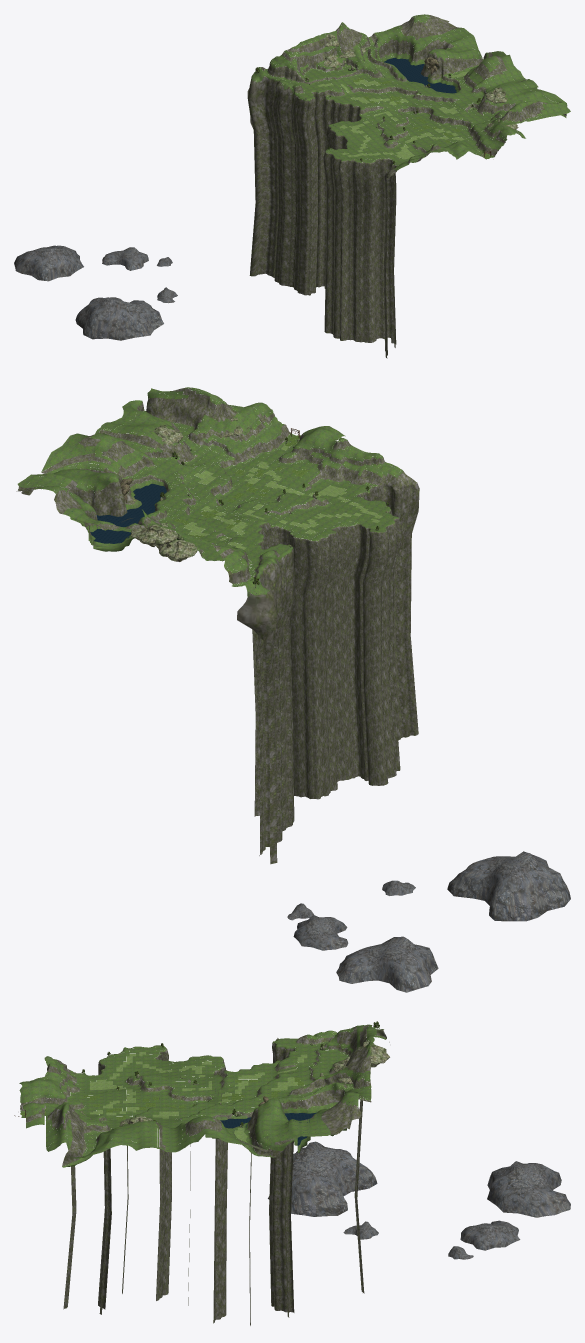
File: NordNorth.glb
The picture shows the model from 3 angles, top to bottom: view 1: azimuth 30°, elevation 25°; view 2: azimuth 150°, elevation 25°; view 3: azimuth 270°, elevation 25°; orthographic projection. The views are drawn at different scales.
Visible parts, largest first — view 1: base_map, rocks00, polySurface424; view 2: base_map, rocks00, polySurface424; view 3: base_map, rocks00, polySurface424.
Part boxes in pixels (left/top/right/bottom): base_map: left=247, top=14, right=570, bottom=358; rocks00: left=14, top=245, right=177, bottom=340; polySurface424: left=384, top=58, right=456, bottom=93; base_map: left=16, top=387, right=419, bottom=864; rocks00: left=287, top=851, right=570, bottom=992; polySurface424: left=72, top=484, right=166, bottom=543; base_map: left=19, top=1024, right=389, bottom=1325; rocks00: left=268, top=1141, right=570, bottom=1259; polySurface424: left=220, top=1112, right=316, bottom=1145.
Bounding box in the file's own units: 2120 × 1173 × 1901.
Materials: 177 (177 with a texture image).
